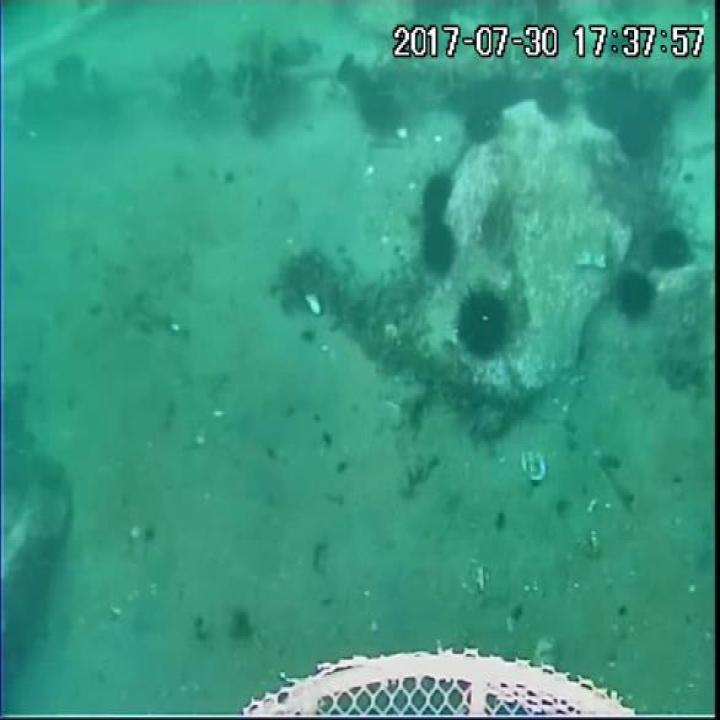echinus: (455, 290, 514, 360), (581, 74, 640, 132), (610, 263, 658, 327), (356, 84, 407, 142), (613, 105, 659, 162), (418, 226, 461, 284), (648, 220, 690, 276), (463, 93, 505, 144), (533, 75, 573, 125), (419, 169, 455, 223), (673, 60, 709, 108)
